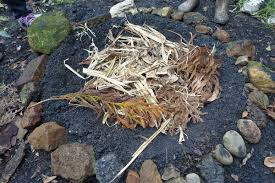wood_together: (83, 30, 213, 129)
